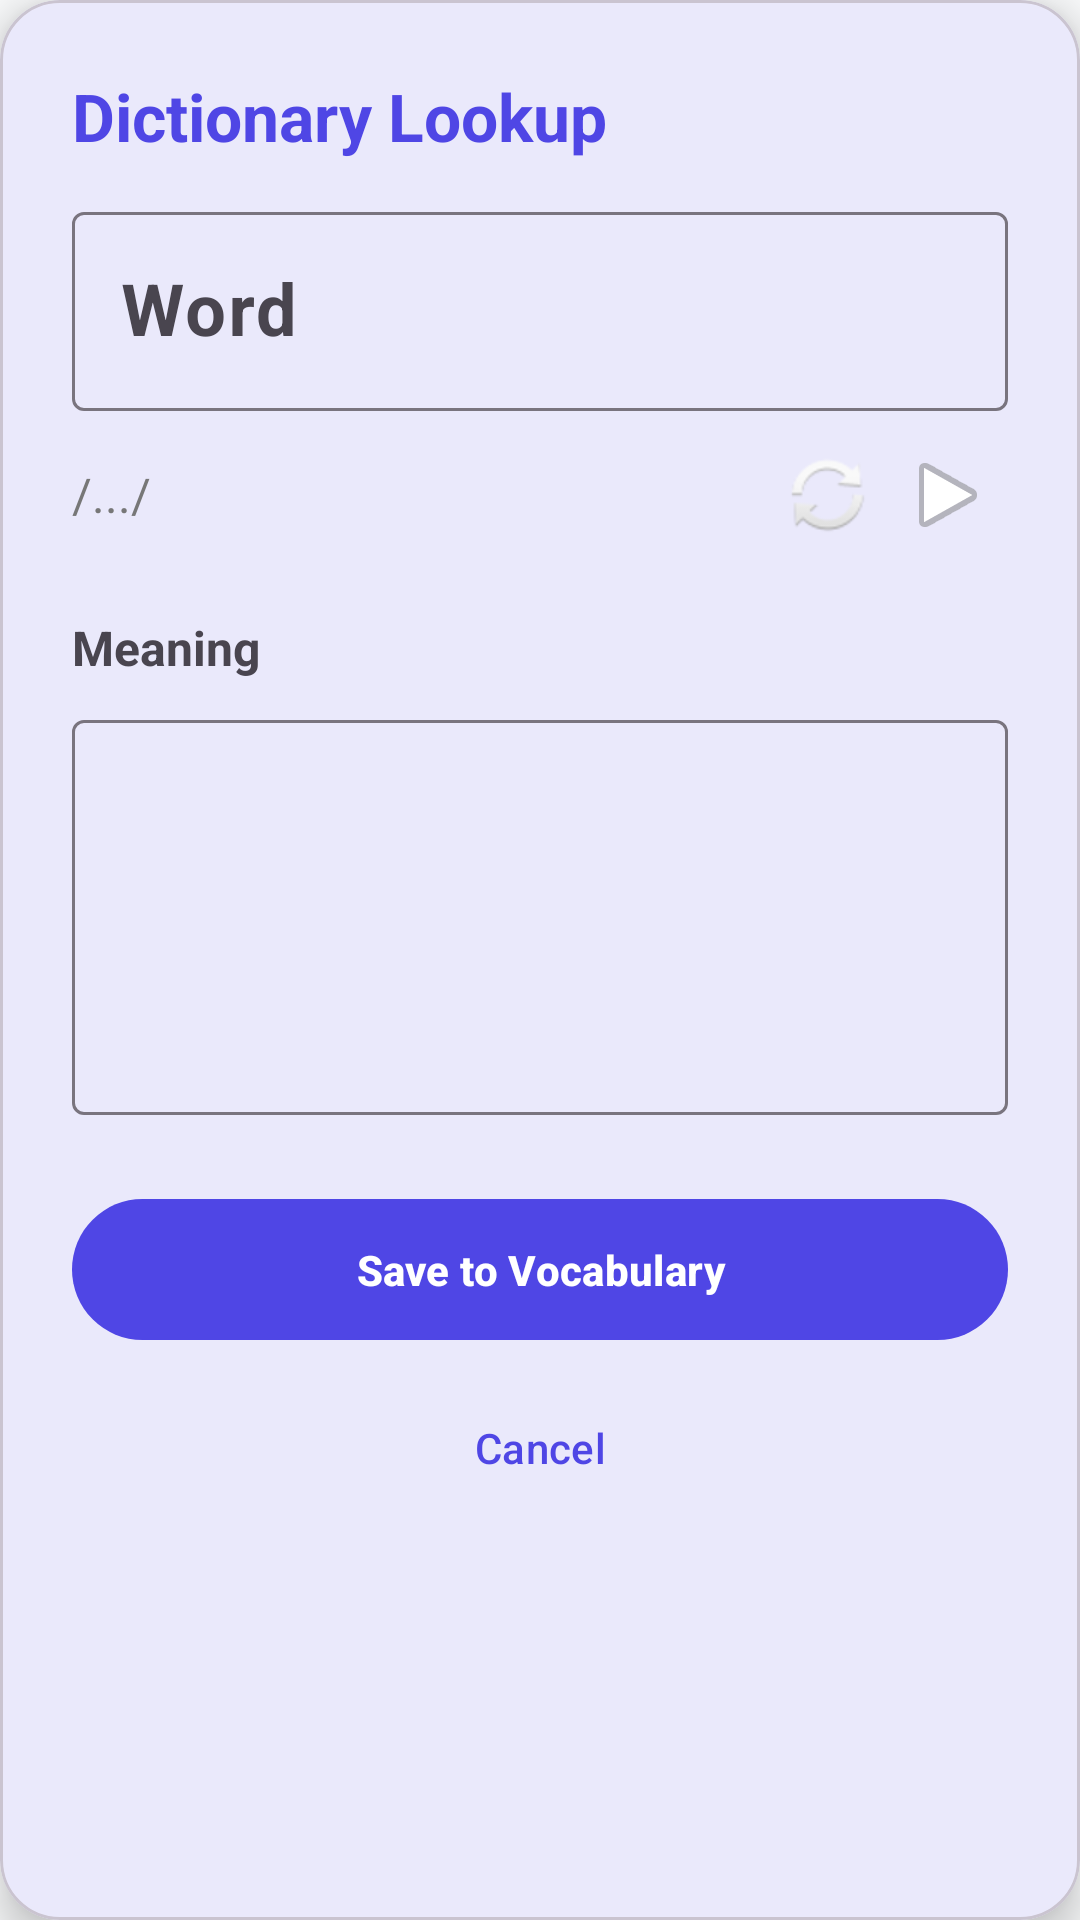

Where to tap for icons on this 1080*1920 app screen, as [x,y]:
play: [948,495]
popup sync: [827,499]
